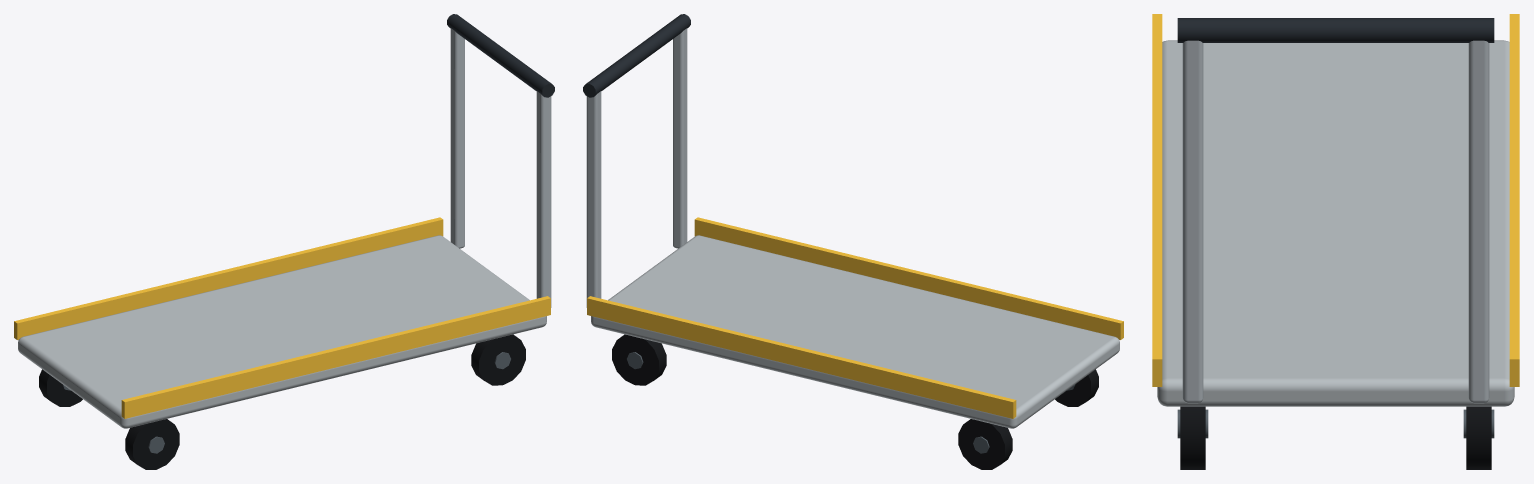
The model's file is water-trolley.glb.
The picture shows the model from 3 angles, left to right: view 1: azimuth 30°, elevation 25°; view 2: azimuth 150°, elevation 25°; view 3: azimuth 270°, elevation 25°; orthographic projection. The views are drawn at different scales.
Visible parts, largest first — view 1: water-trolley-panel-grey, water-trolley-hazard-yellow, handle-aluminium, handle-dark-polymer, wheel_4-rubber, wheel_2-rubber, wheel_1-rubber; view 2: water-trolley-panel-grey, water-trolley-hazard-yellow, handle-aluminium, handle-dark-polymer, wheel_3-rubber, wheel_1-rubber, wheel_2-rubber; view 3: water-trolley-panel-grey, handle-aluminium, water-trolley-hazard-yellow, handle-dark-polymer, wheel_3-rubber, wheel_4-rubber.
Part boxes in pixels (x1,y1,x2,y2): water-trolley-panel-grey: (18,235,546,428); water-trolley-hazard-yellow: (14,217,550,418); handle-aluminium: (450,28,551,307); handle-dark-polymer: (447,14,554,97); wheel_4-rubber: (471,334,525,385); wheel_2-rubber: (125,419,179,469); wheel_1-rubber: (39,369,82,406); water-trolley-panel-grey: (591,235,1119,428); water-trolley-hazard-yellow: (587,217,1123,418); handle-aluminium: (586,28,687,307); handle-dark-polymer: (583,14,690,97); wheel_3-rubber: (612,334,666,385); wheel_1-rubber: (958,419,1012,469); wheel_2-rubber: (1055,369,1098,406); water-trolley-panel-grey: (1157,40,1514,406); handle-aluminium: (1182,40,1489,403); water-trolley-hazard-yellow: (1152,14,1519,386); handle-dark-polymer: (1177,18,1494,42); wheel_3-rubber: (1466,406,1491,469); wheel_4-rubber: (1180,406,1205,469).
Bounding box in the file's own units: 1.64 × 1.04 × 0.72.
